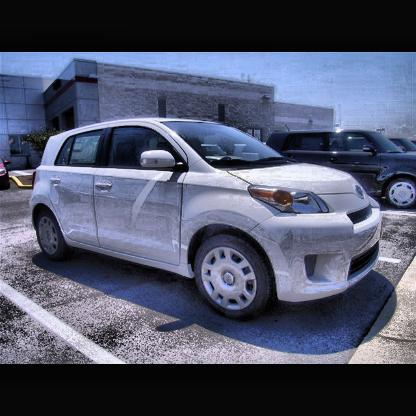Scion xD Hatchback 2012: (30, 118, 386, 315)
